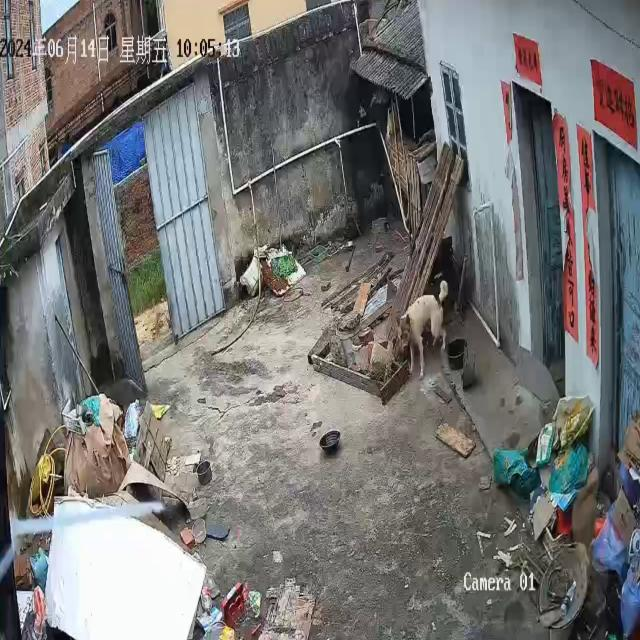dog: (400, 280, 450, 380)
